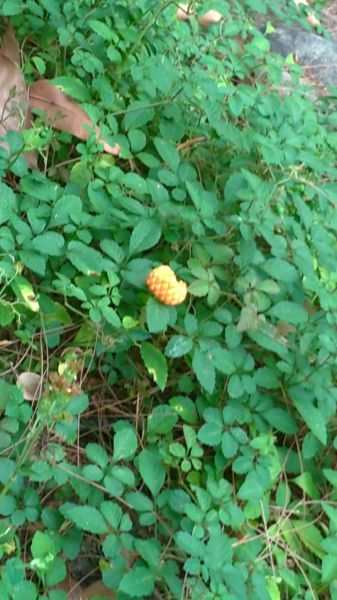eggs: (141, 260, 192, 310)
